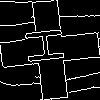H: (25, 25, 74, 65)
